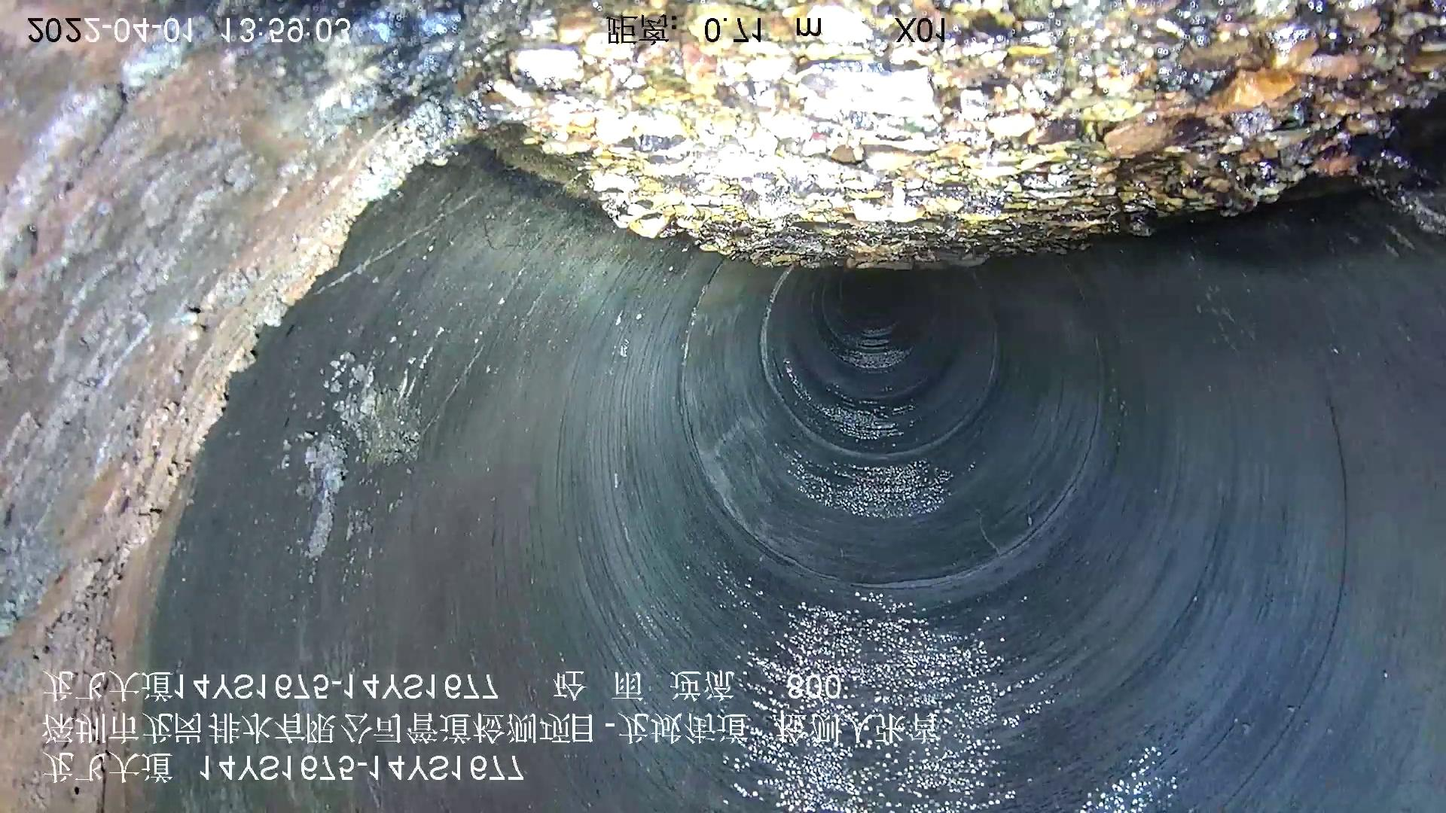CJ: (471, 1, 1445, 267)
CKTJ: (674, 248, 1110, 595), (755, 259, 1003, 464)
